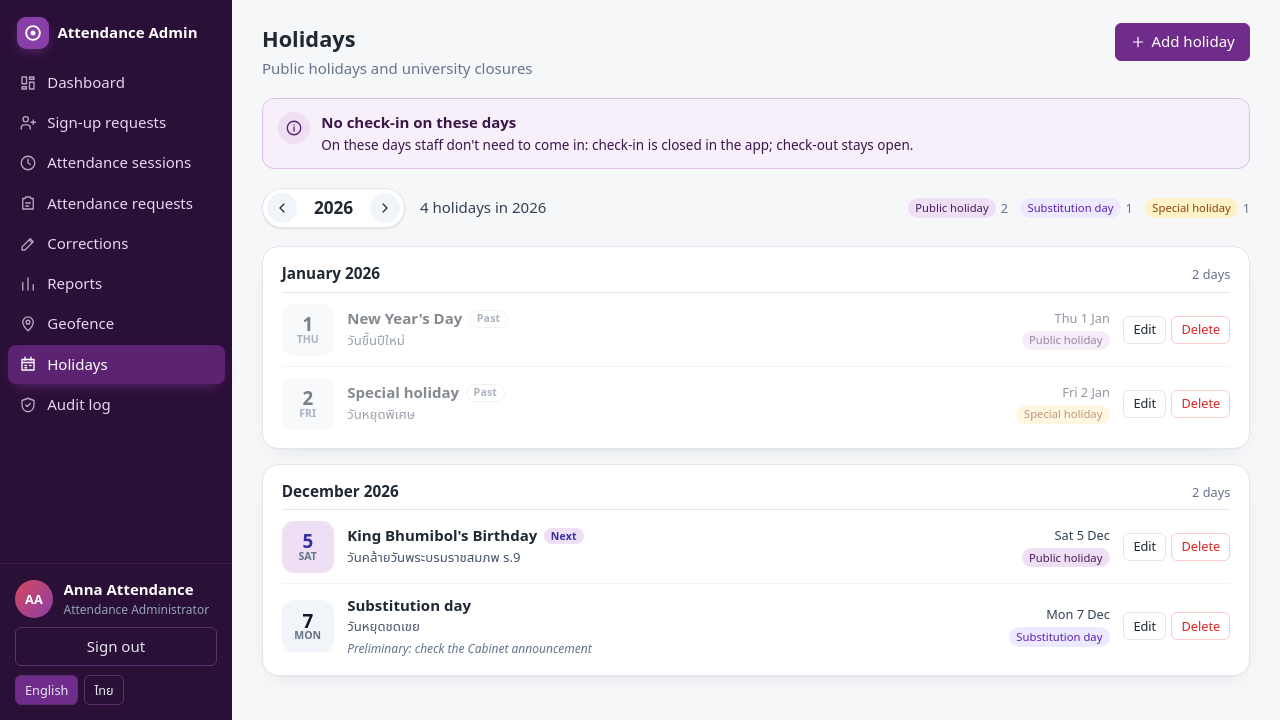
Test: Holidays › renders in Thai with Buddhist Era years and Thai names first
This screenshot has width=1280, height=720.
Step 1. Click the button "ไทย" → (104, 690), box [84,675,124,705]
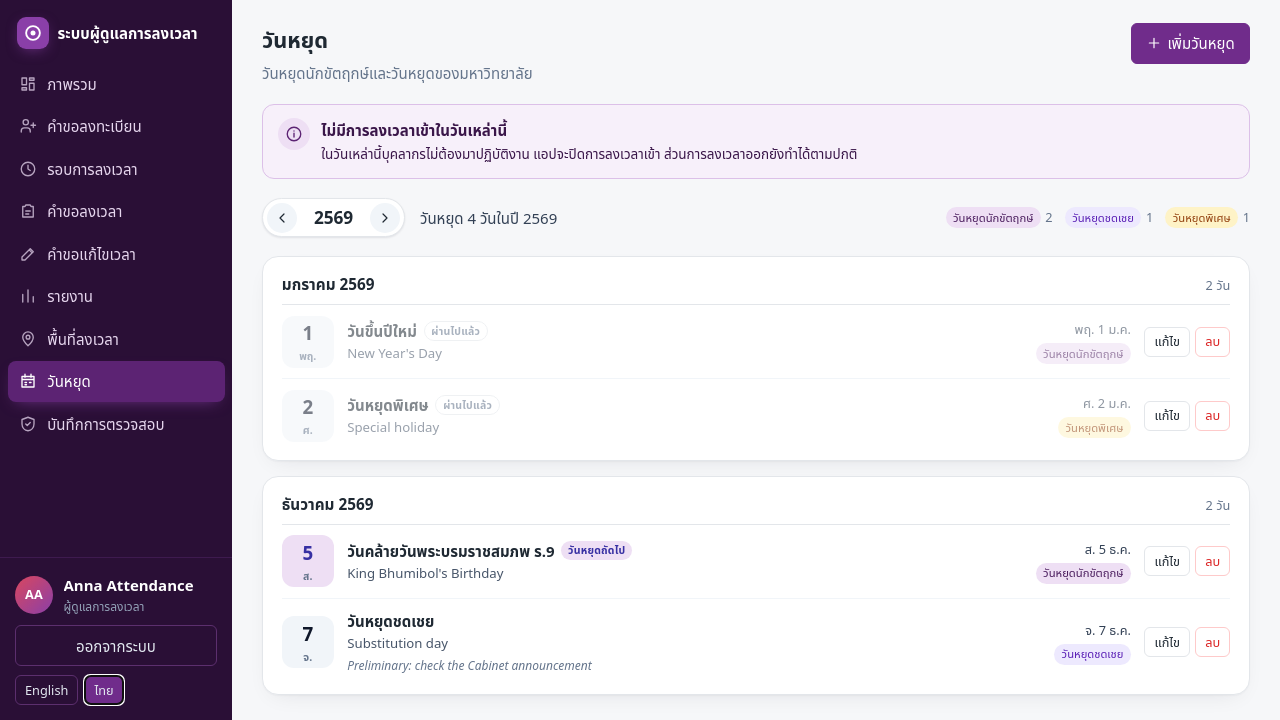
Check: the heading "วันหยุด" is shown, box [262,24,328,54]
Check: the text "Substitution day" is shown, box [347,634,448,652]
Check: the text "วันหยุดชดเชย" below "จ. 7 ธ.ค." is shown, box [1062,646,1123,661]
